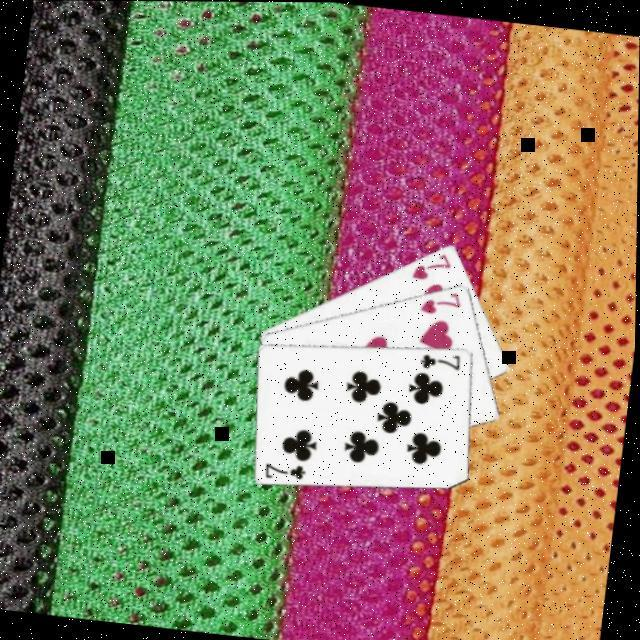7C: (418, 344, 466, 373), (263, 456, 311, 483)
7H: (410, 244, 457, 283), (417, 283, 466, 318)
